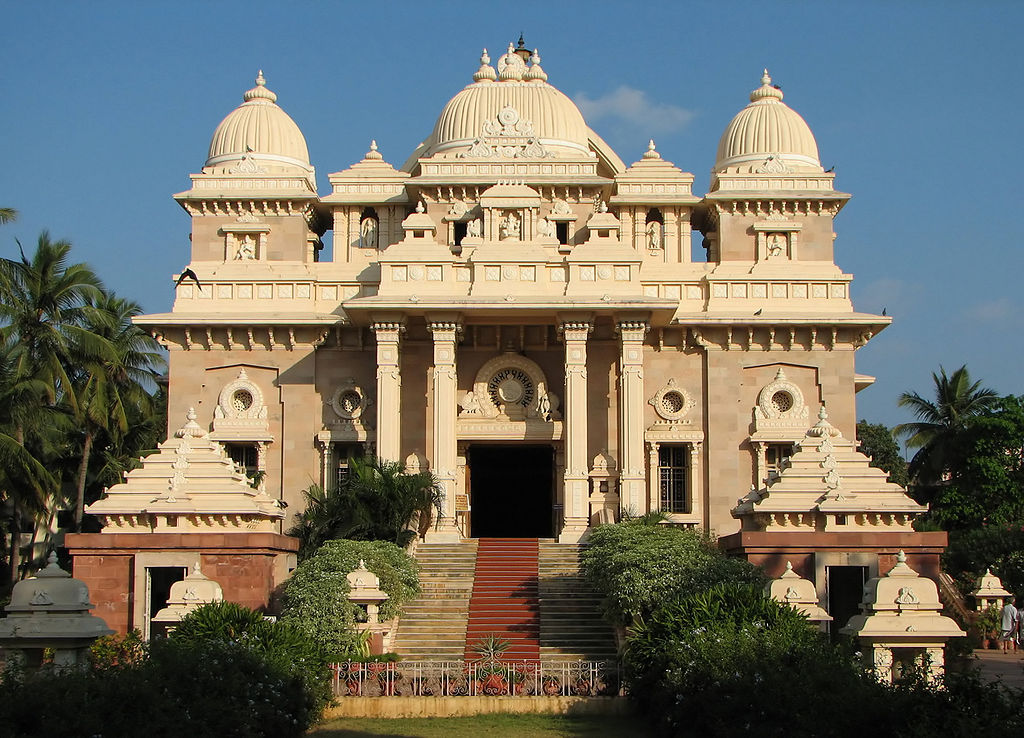Temple: (90, 63, 934, 607)
